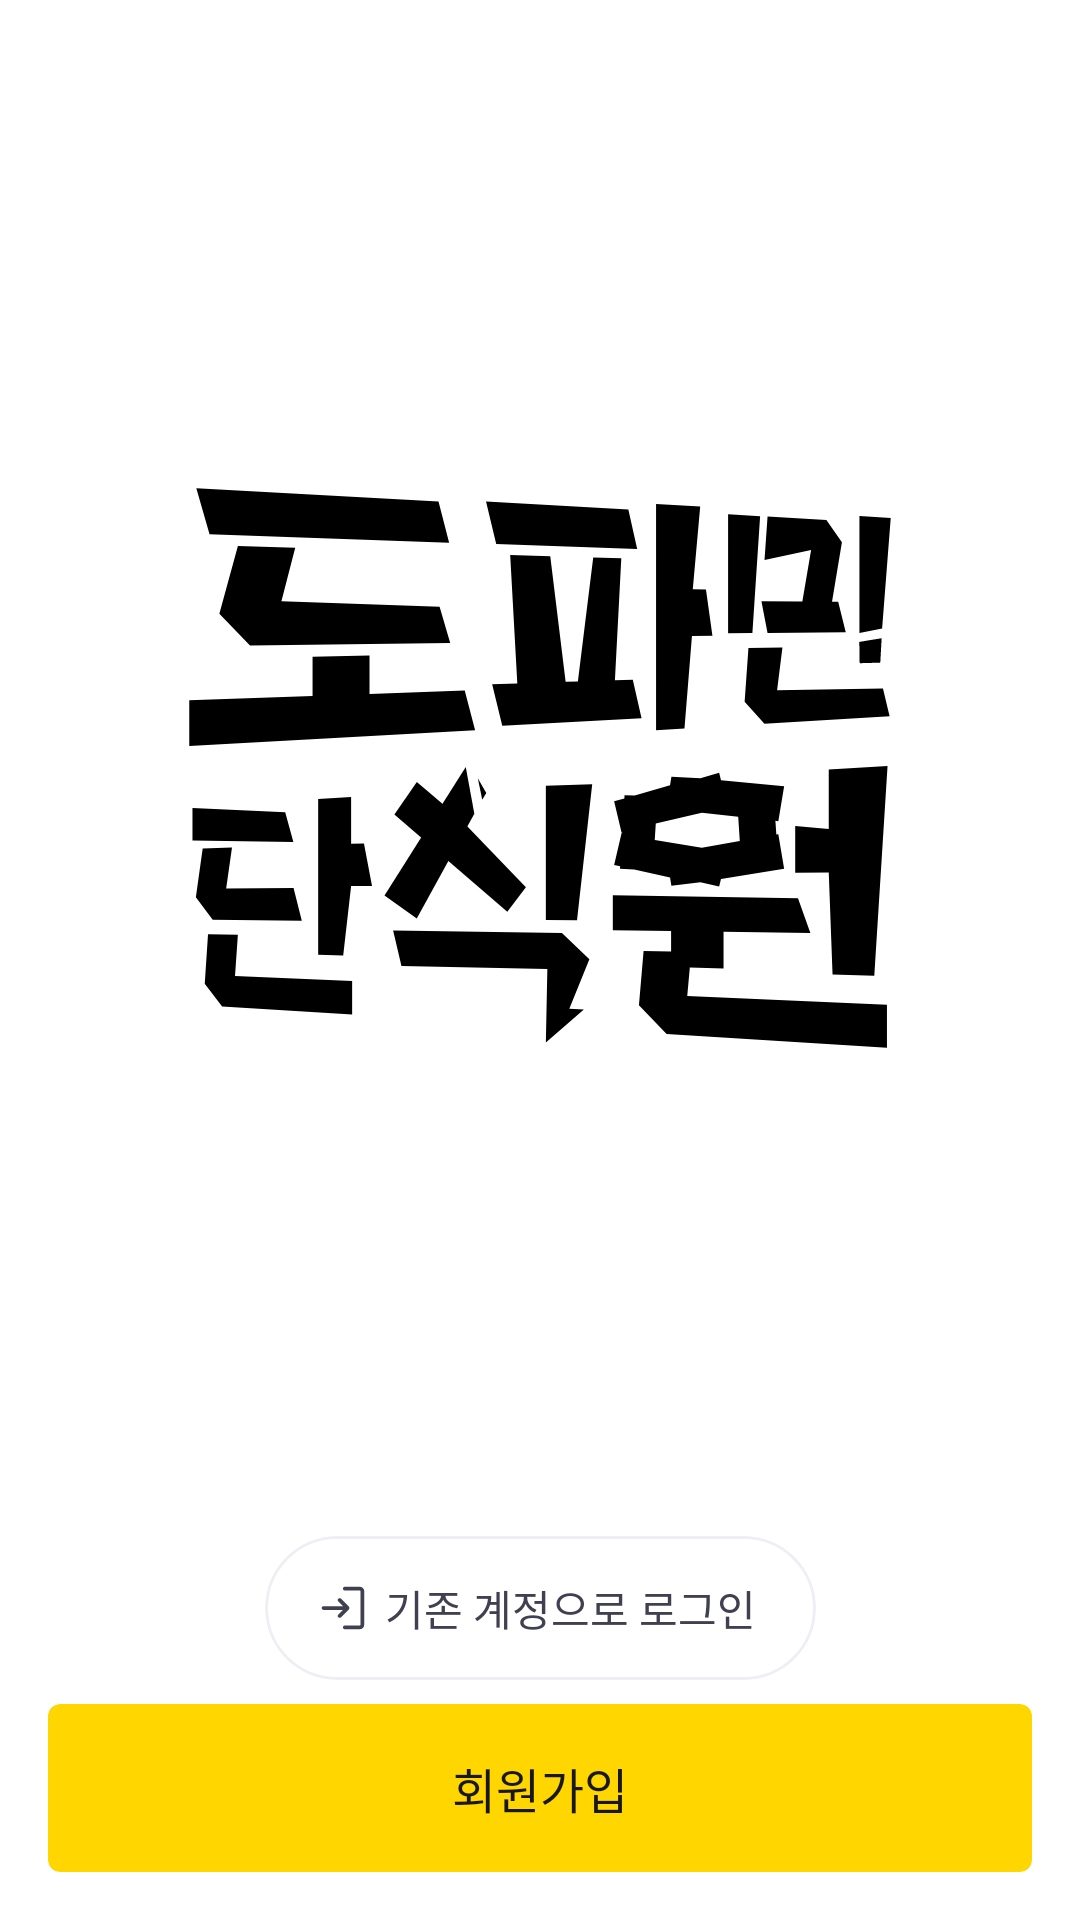

Where icons sit on this 1080x1920 app screen, as (x1, y1, x2, y2):
login: (321, 1586, 365, 1630)
